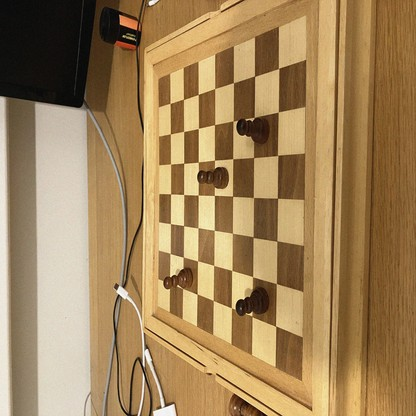pawn_black: (236, 289, 269, 314), (237, 119, 270, 144), (198, 167, 229, 189), (163, 269, 192, 289)
